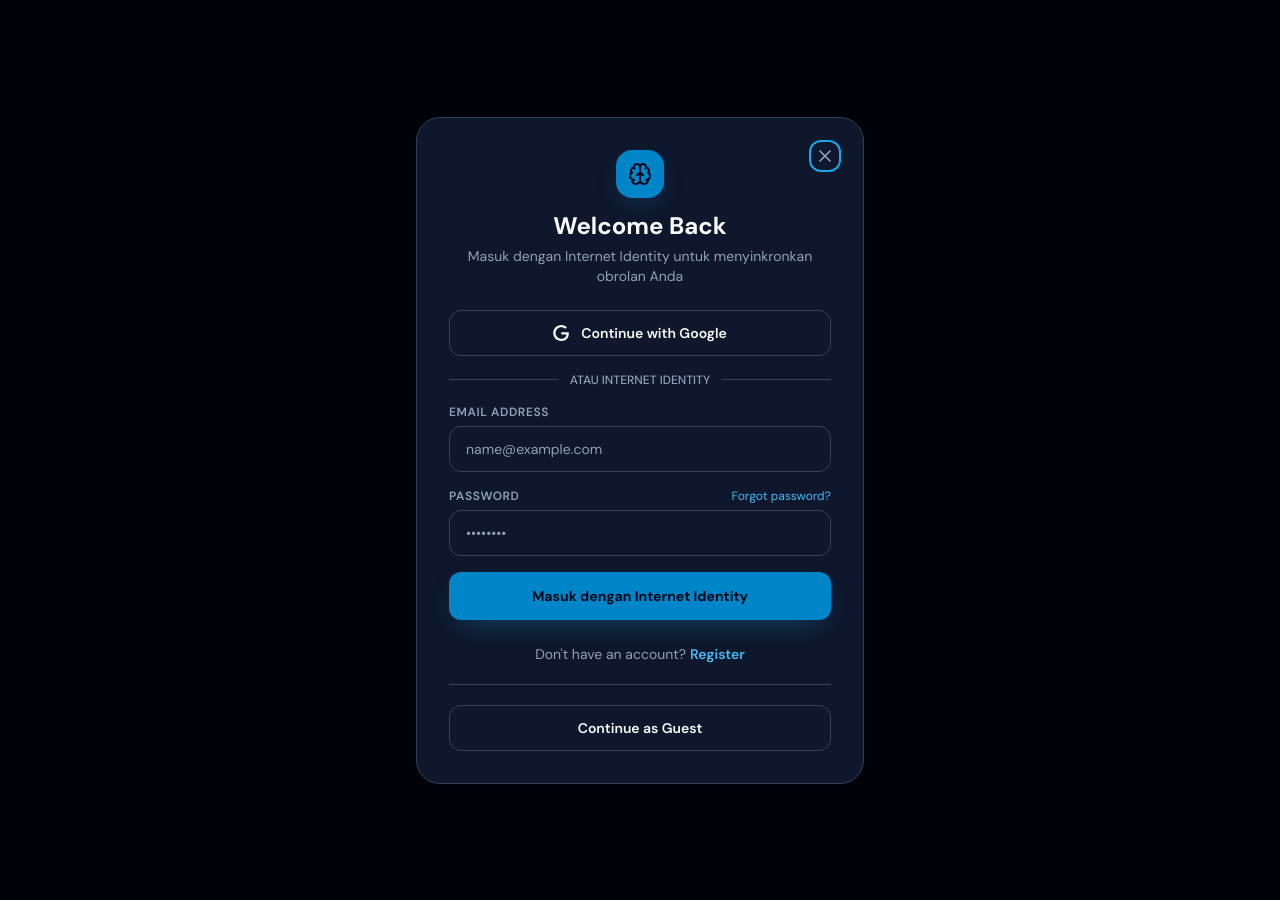
it: AuthModal › switches to forgot mode and hides the password field
Click the button with test id "auth.forgot_password_button" at (781, 496), box x1=732 y1=488 x2=831 y2=504
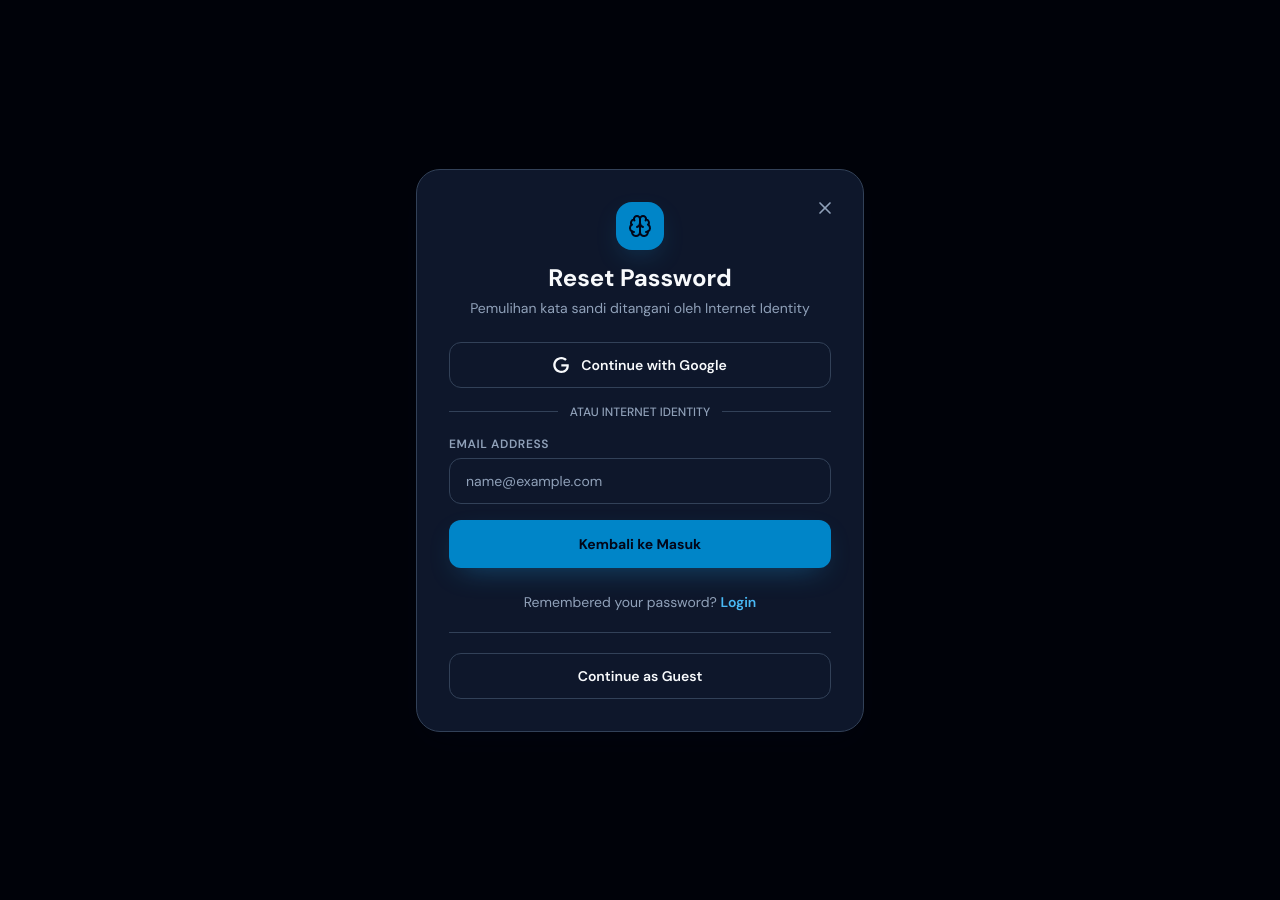
Now the heading with test id "auth.title" reads "Reset Password", box x1=548 y1=262 x2=732 y2=292
Now the button with test id "auth.submit_button" reads "Kembali ke Masuk", box x1=449 y1=520 x2=831 y2=568
